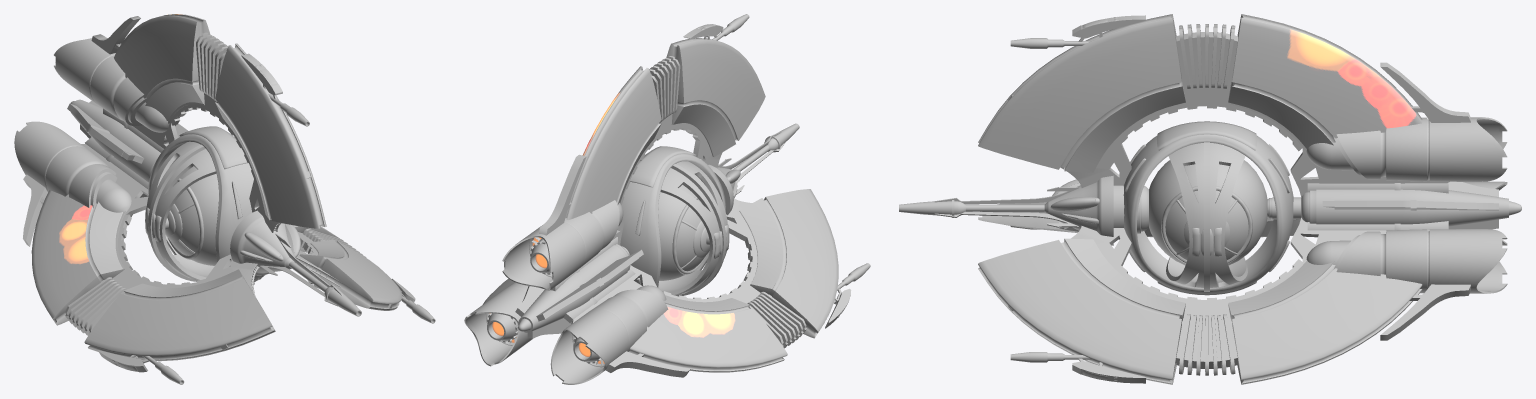
The model's file is statek1.fbx.
The picture shows the model from 3 angles, left to right: view 1: azimuth 30°, elevation 25°; view 2: azimuth 150°, elevation 25°; view 3: azimuth 270°, elevation 25°; orthographic projection. The views are drawn at different scales.
Parts seen in each view (by area): view 1: Tri_Fighter; view 2: Tri_Fighter; view 3: Tri_Fighter.
Boxes of the visible parts, box(x1,y1,x2,y2) form: Tri_Fighter: box(14, 14, 435, 384); Tri_Fighter: box(464, 14, 870, 384); Tri_Fighter: box(899, 14, 1521, 384).
Bounding box in the file's own units: 9467 × 8204 × 15835.
